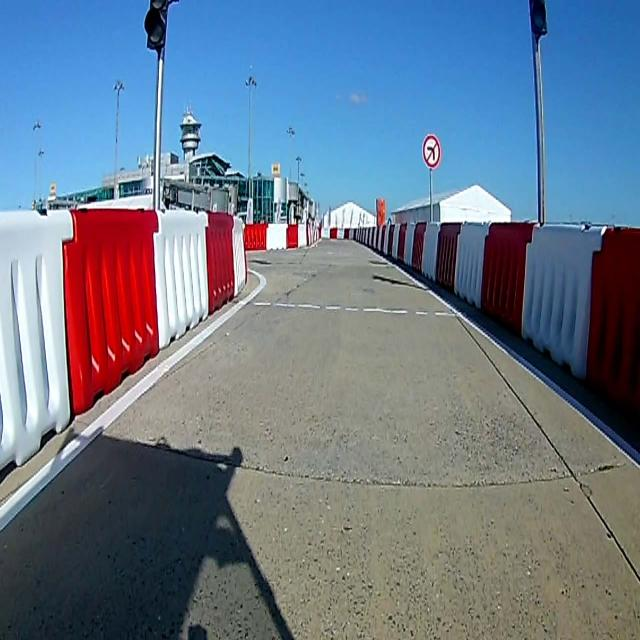soladonulmez: (421, 134, 441, 172)
